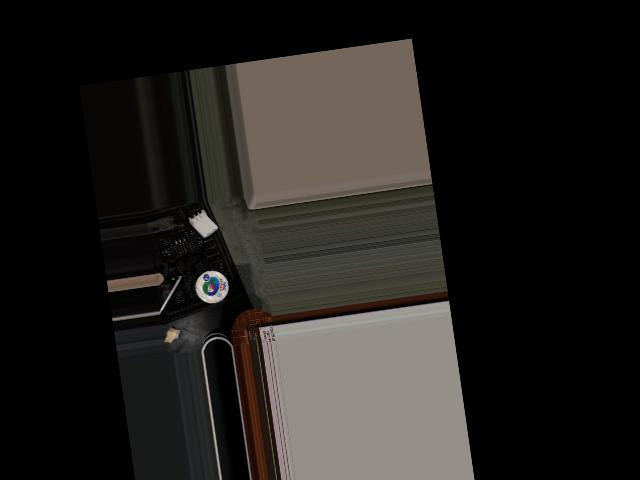cotage: (192, 266, 237, 307)
